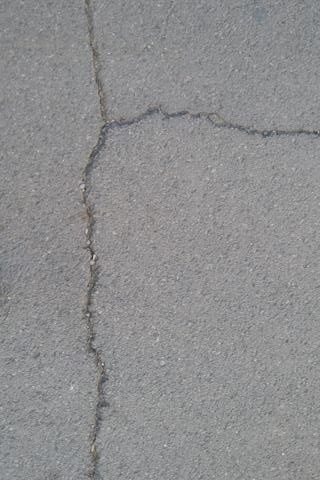A: (81, 1, 111, 480), (110, 103, 320, 143)
